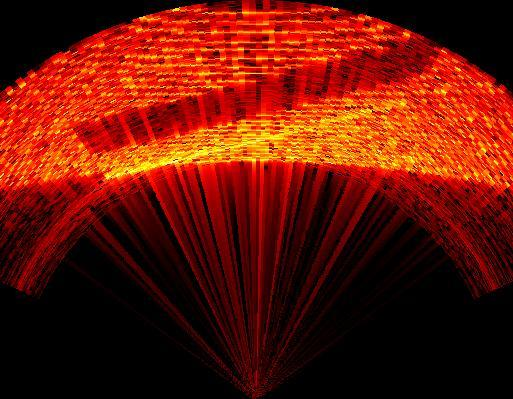pipe: (78, 33, 445, 158)
